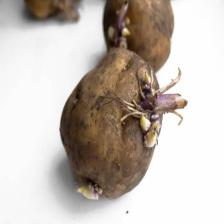Sprouted potato: (56, 30, 178, 206), (95, 0, 180, 81)
